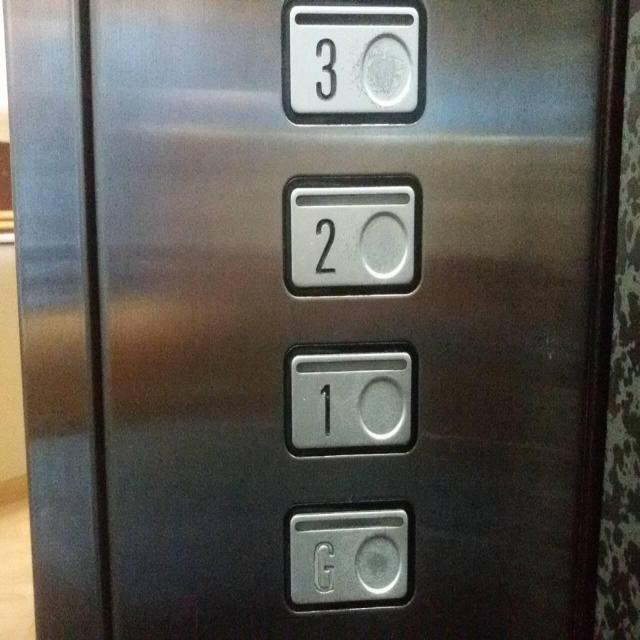1: (280, 337, 420, 458)
2: (278, 170, 424, 298)
3: (280, 0, 429, 129)
G: (280, 497, 418, 615)
